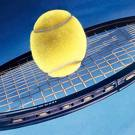tennis ball: (29, 6, 89, 79)
